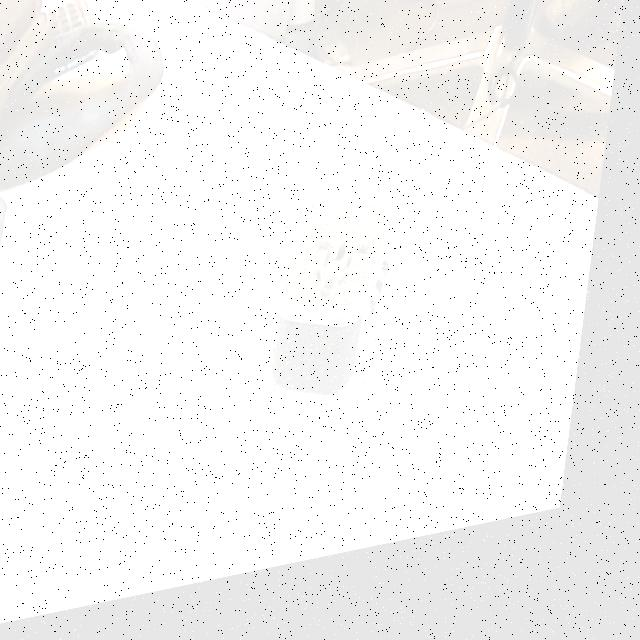adapter: (275, 201, 409, 422)
